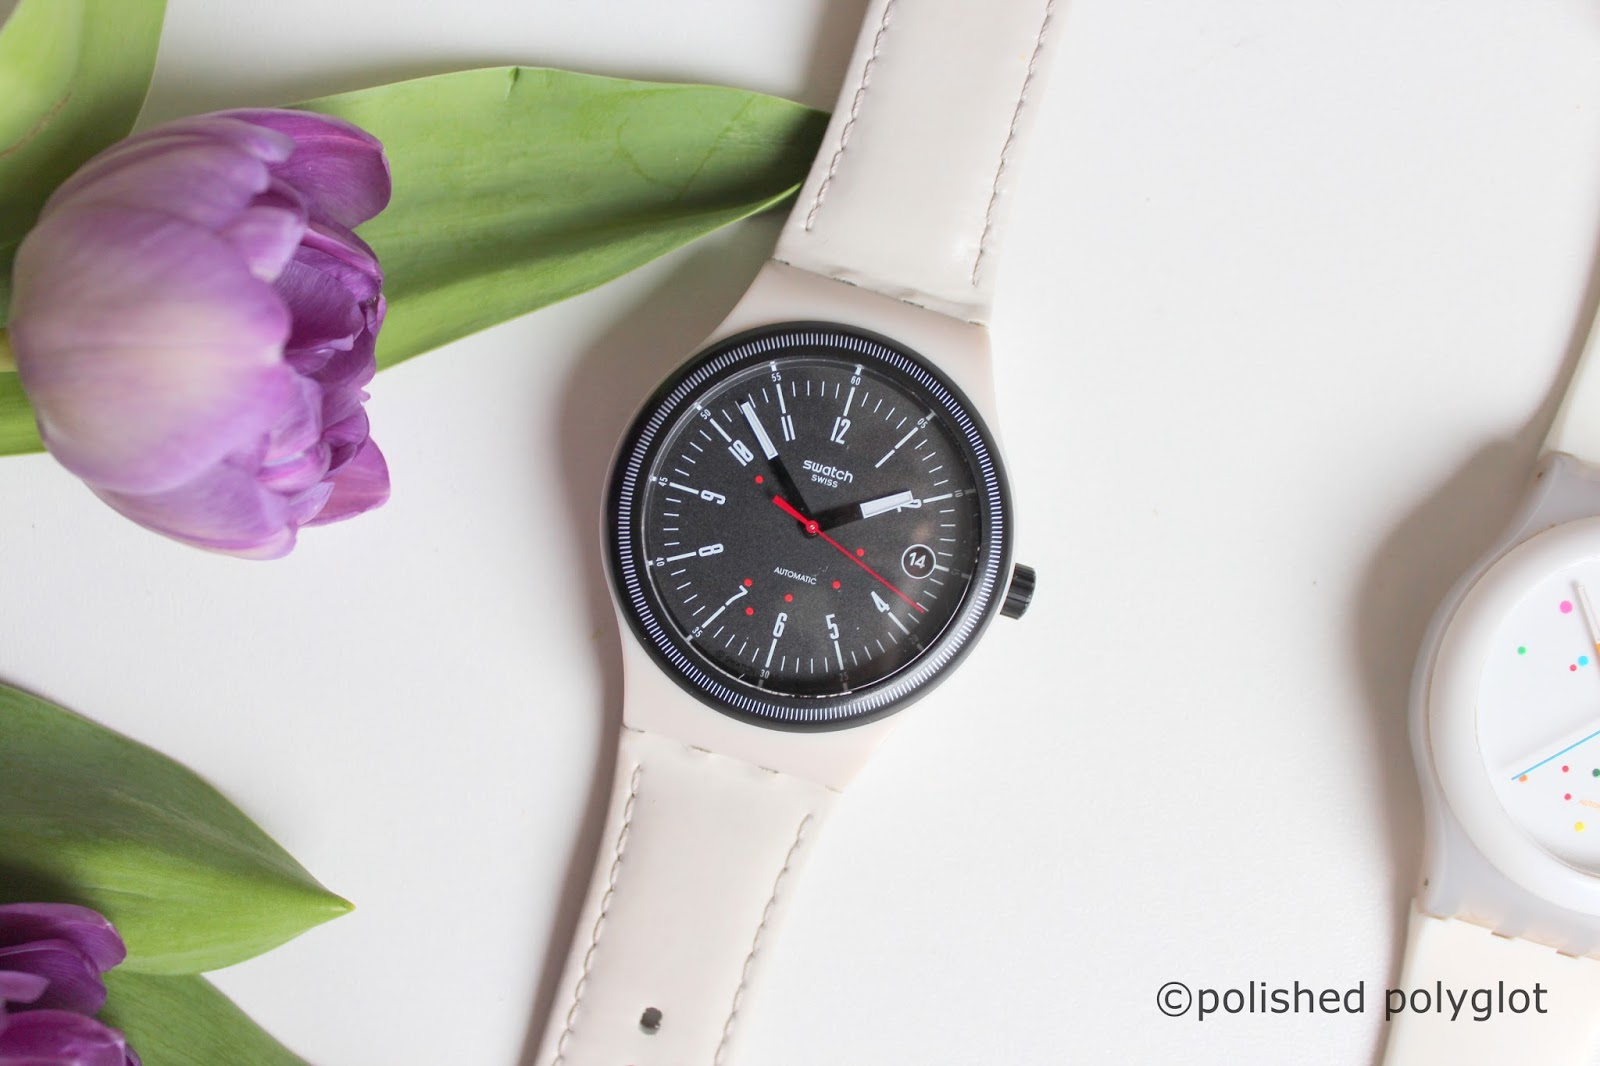clock: (598, 322, 1021, 736)
